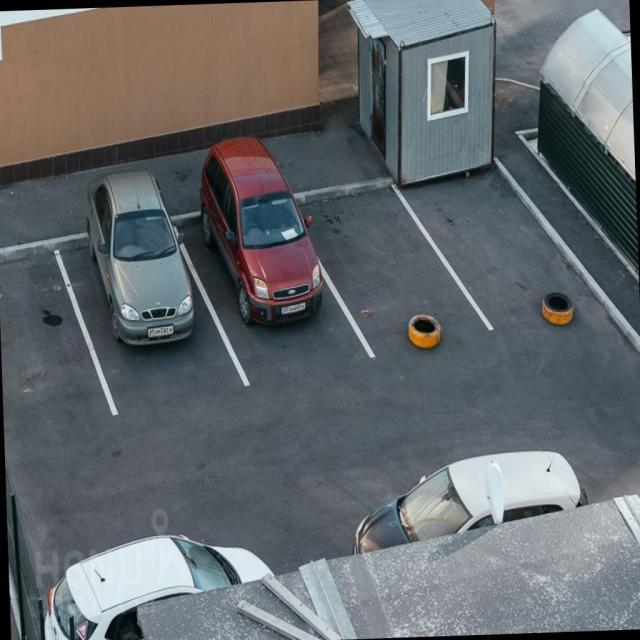car: (94, 178, 206, 402), (208, 168, 334, 358), (330, 193, 464, 362), (452, 168, 570, 332)
free: (0, 222, 88, 428)
